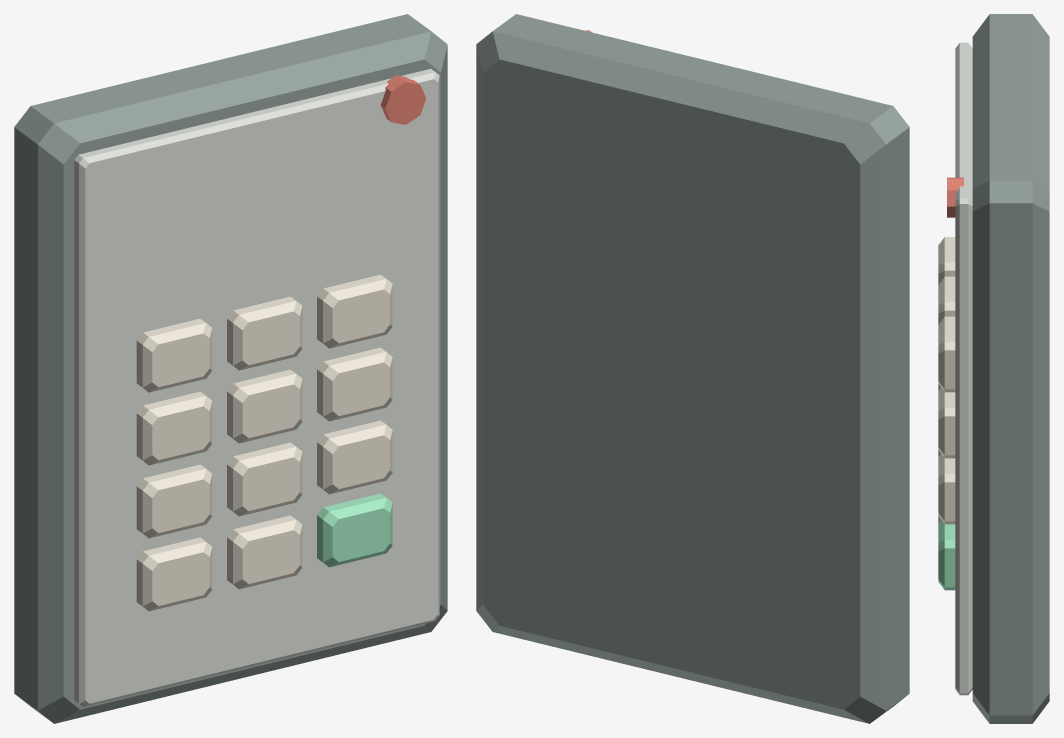
File: lab_keypad.glb
The picture shows the model from 3 angles, left to right: view 1: azimuth 30°, elevation 25°; view 2: azimuth 150°, elevation 25°; view 3: azimuth 270°, elevation 25°; orthographic projection. The views are drawn at different scales.
Visible parts, largest first — view 1: lab_keypad, Button_0, Button_3, Button_9, Button_6, Button_1, Button_4, Button_8, Button_2, Button_5, Button_7, Button_11 (+2 smaller); view 2: lab_keypad; view 3: lab_keypad, Button_2, Button_5, Button_8, Button_11, Button_1, Button_0, StatusLed.
Part boxes in pixels (x1,y1,x2,y2): lab_keypad: [14, 14, 447, 723]; Button_0: [136, 318, 212, 392]; Button_3: [136, 391, 212, 465]; Button_9: [136, 537, 212, 611]; Button_6: [136, 464, 212, 538]; Button_1: [227, 296, 302, 370]; Button_4: [227, 369, 302, 443]; Button_8: [317, 420, 392, 494]; Button_2: [317, 274, 392, 348]; Button_5: [317, 347, 392, 421]; Button_7: [227, 442, 302, 516]; Button_11: [317, 493, 392, 567]; lab_keypad: [476, 14, 909, 723]; lab_keypad: [955, 14, 1049, 723]; Button_2: [938, 316, 955, 392]; Button_5: [938, 388, 955, 458]; Button_8: [938, 454, 955, 524]; Button_11: [938, 520, 955, 590]; Button_1: [938, 276, 955, 324]; Button_0: [938, 237, 955, 284]; StatusLed: [947, 177, 963, 217].
Size of the model in its own units: 0.5 by 0.7 by 0.13.
